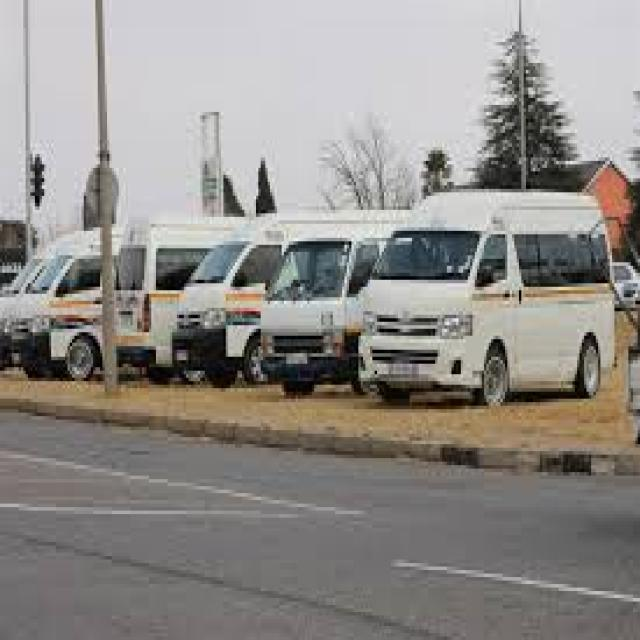MiniBus taxi: (358, 182, 619, 406), (258, 238, 398, 402), (172, 231, 289, 392), (7, 227, 114, 385), (112, 220, 193, 382)
